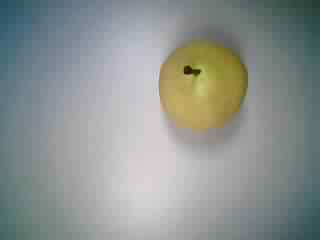pear: (147, 33, 253, 142)
